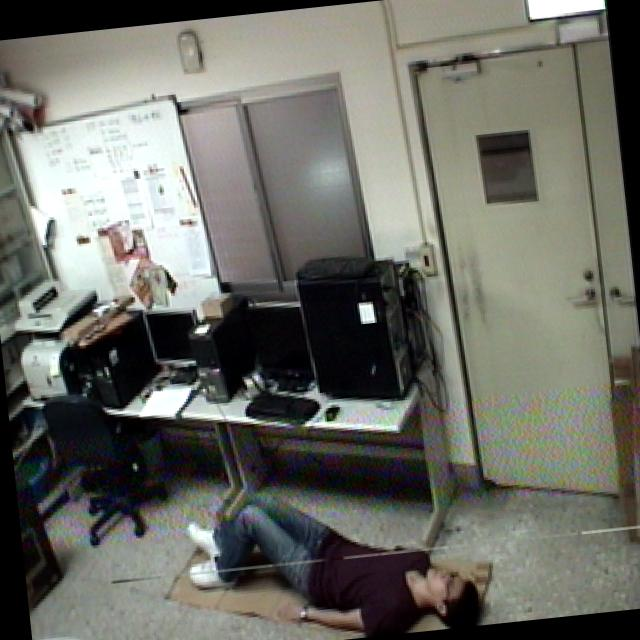lie: (176, 466, 487, 640)
